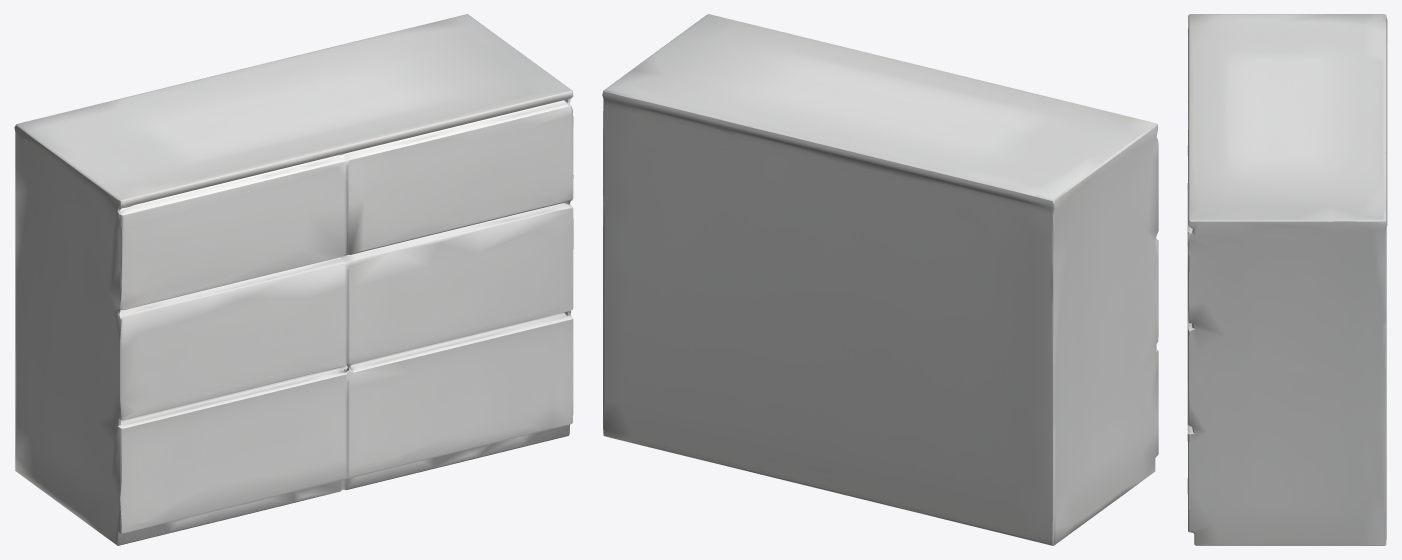
Rendered from Commode2_3D_textured.glb.
The picture shows the model from 3 angles, left to right: view 1: azimuth 30°, elevation 25°; view 2: azimuth 150°, elevation 25°; view 3: azimuth 270°, elevation 25°; orthographic projection. The views are drawn at different scales.
Parts seen in each view (by area): view 1: temp_mesh.ply; view 2: temp_mesh.ply; view 3: temp_mesh.ply.
Part boxes in pixels (x1,y1,x2,y2): temp_mesh.ply: (14,14,573,545); temp_mesh.ply: (602,14,1158,545); temp_mesh.ply: (1187,14,1387,545).
Size of the model in its own units: 1.97 by 1.45 by 0.8049.
1 material, 1 textured.
